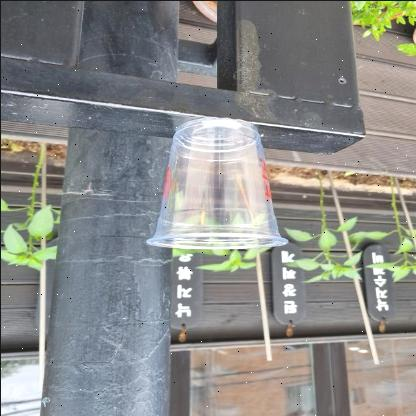Others: (138, 112, 292, 254)
